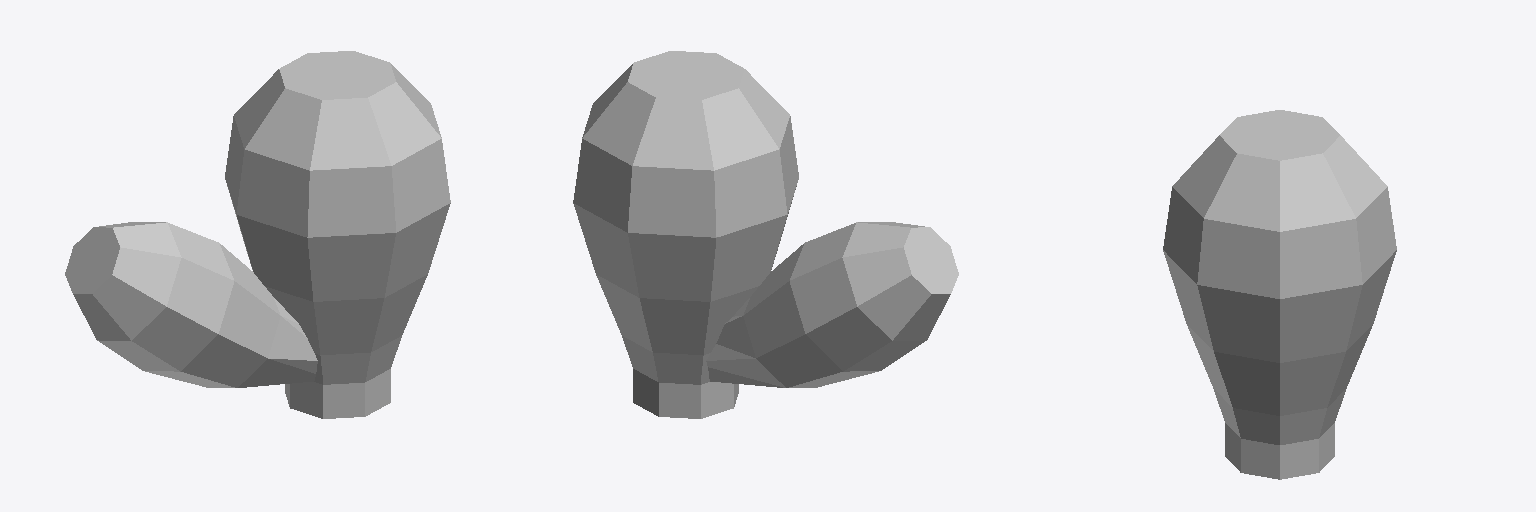
File: Cactus1.obj
The picture shows the model from 3 angles: view 1: azimuth 30°, elevation 25°; view 2: azimuth 150°, elevation 25°; view 3: azimuth 270°, elevation 25°; orthographic projection.
Visible parts, largest first — view 1: Circle.003; view 2: Circle.003; view 3: Circle.003.
Part boxes in pixels (x1,y1,x2,y2): Circle.003: (65, 51, 450, 418); Circle.003: (573, 51, 958, 418); Circle.003: (1163, 110, 1396, 479).
Size of the model in its own units: 3.51 by 2.94 by 1.94.